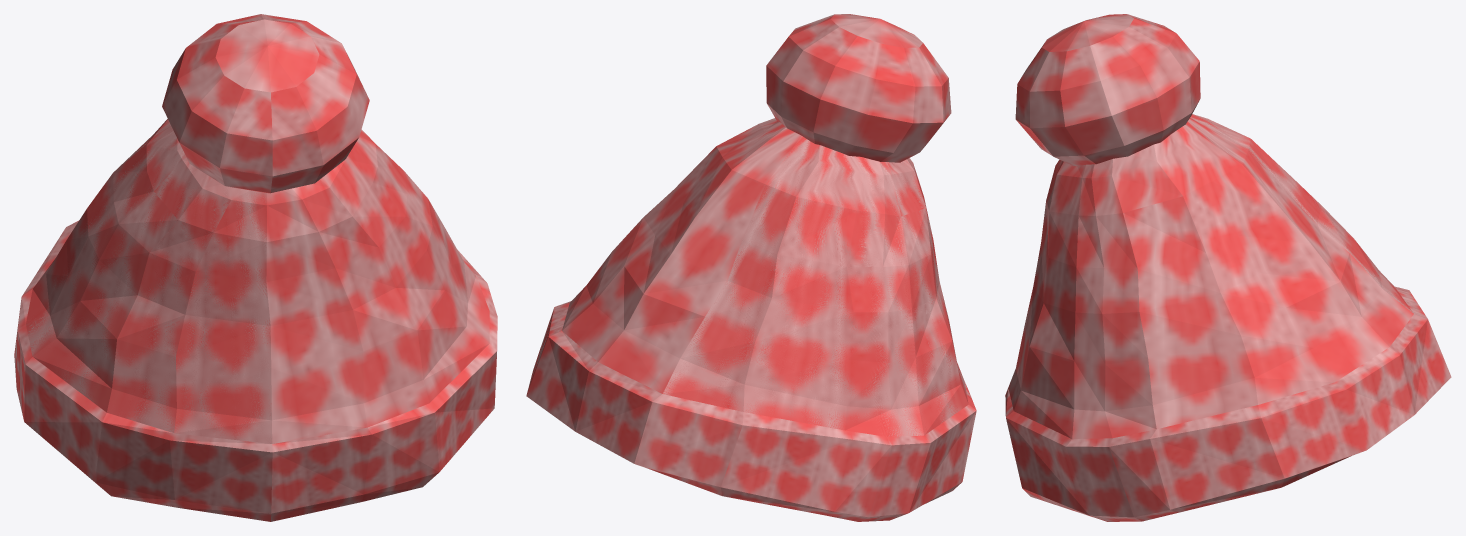
The model's file is HEART POMPOM HAT.fbx.
The picture shows the model from 3 angles, left to right: view 1: azimuth 30°, elevation 25°; view 2: azimuth 150°, elevation 25°; view 3: azimuth 270°, elevation 25°; orthographic projection. The views are drawn at different scales.
Parts seen in each view (by area): view 1: HEART_POMPOM_HAT; view 2: HEART_POMPOM_HAT; view 3: HEART_POMPOM_HAT.
Boxes of the visible parts, <box> form: HEART_POMPOM_HAT: <box>14,14,497,521</box>; HEART_POMPOM_HAT: <box>526,14,976,521</box>; HEART_POMPOM_HAT: <box>1005,14,1451,521</box>.
Size of the model in its own units: 31.38 by 33.13 by 31.25.
